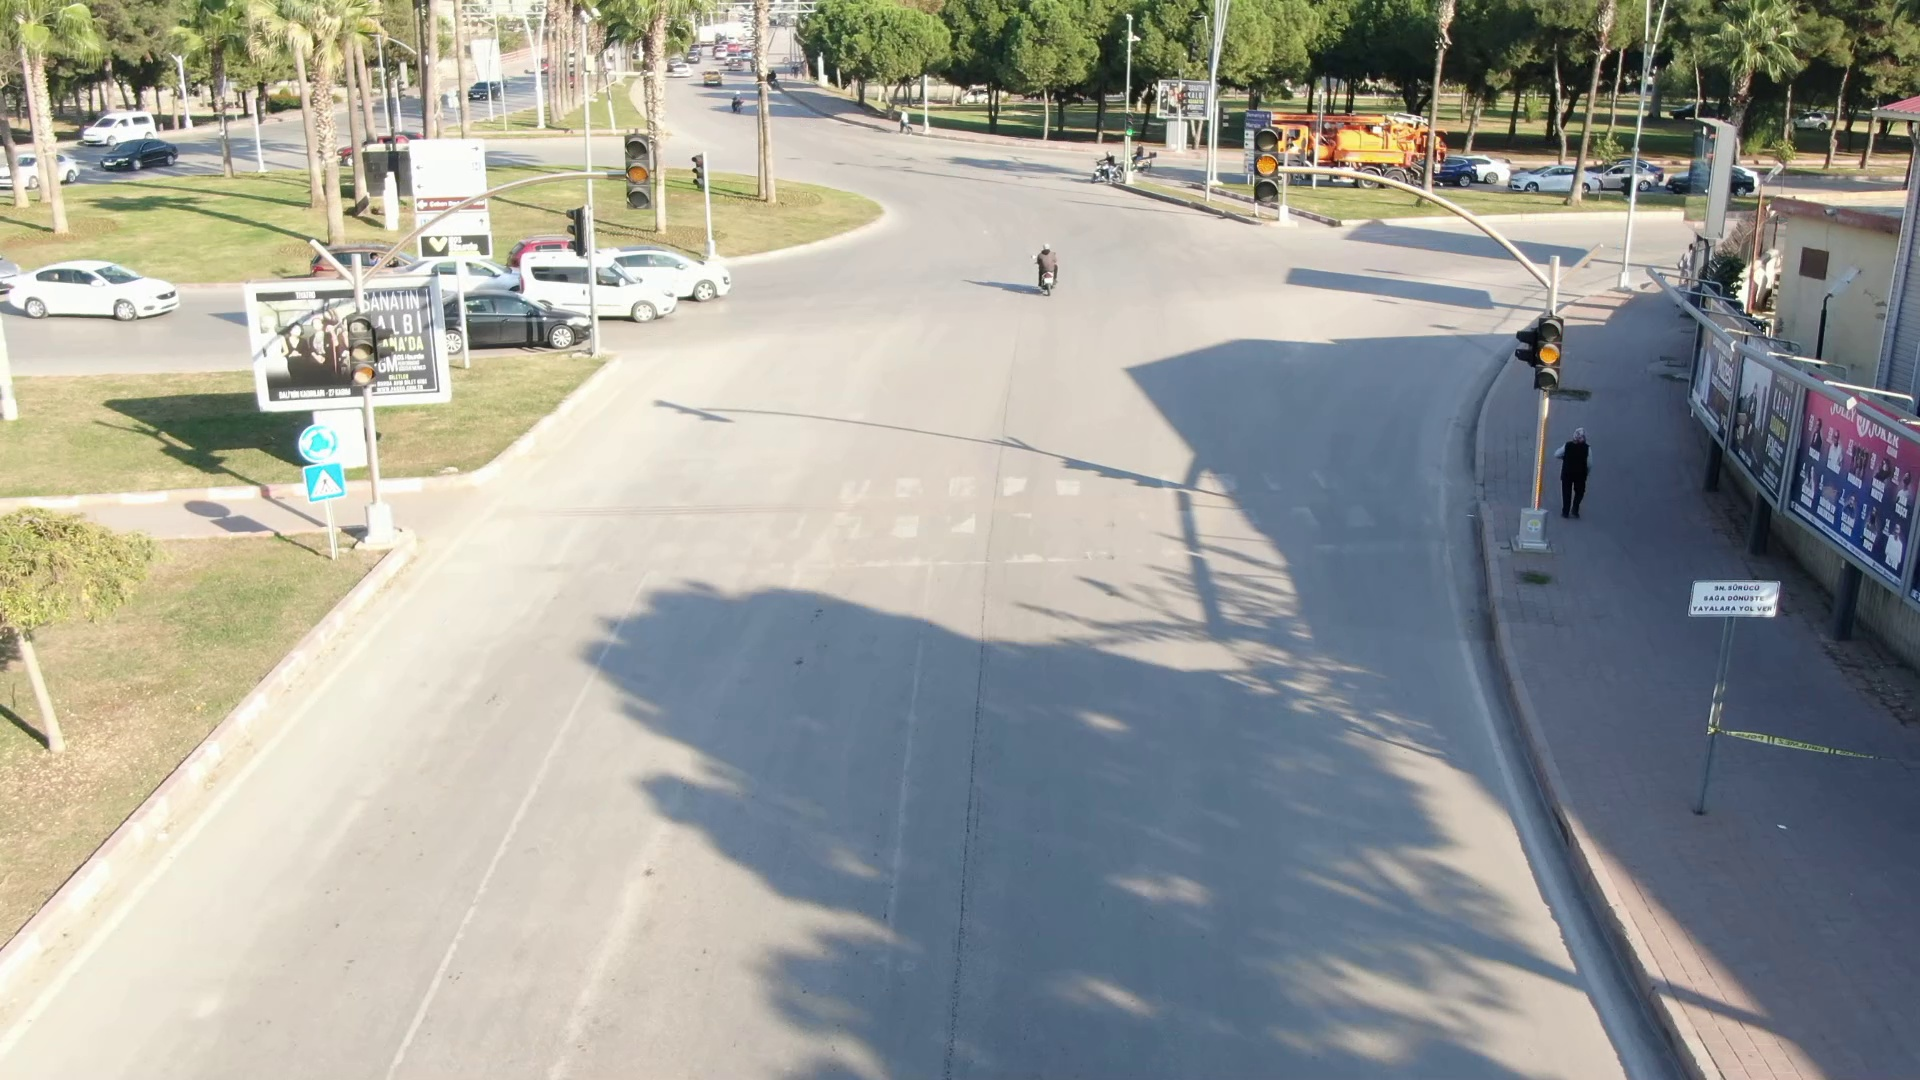car: (402, 276, 617, 349), (515, 245, 700, 314), (592, 223, 747, 302), (1, 258, 190, 323)
person: (1549, 414, 1604, 541), (1019, 247, 1065, 306)
